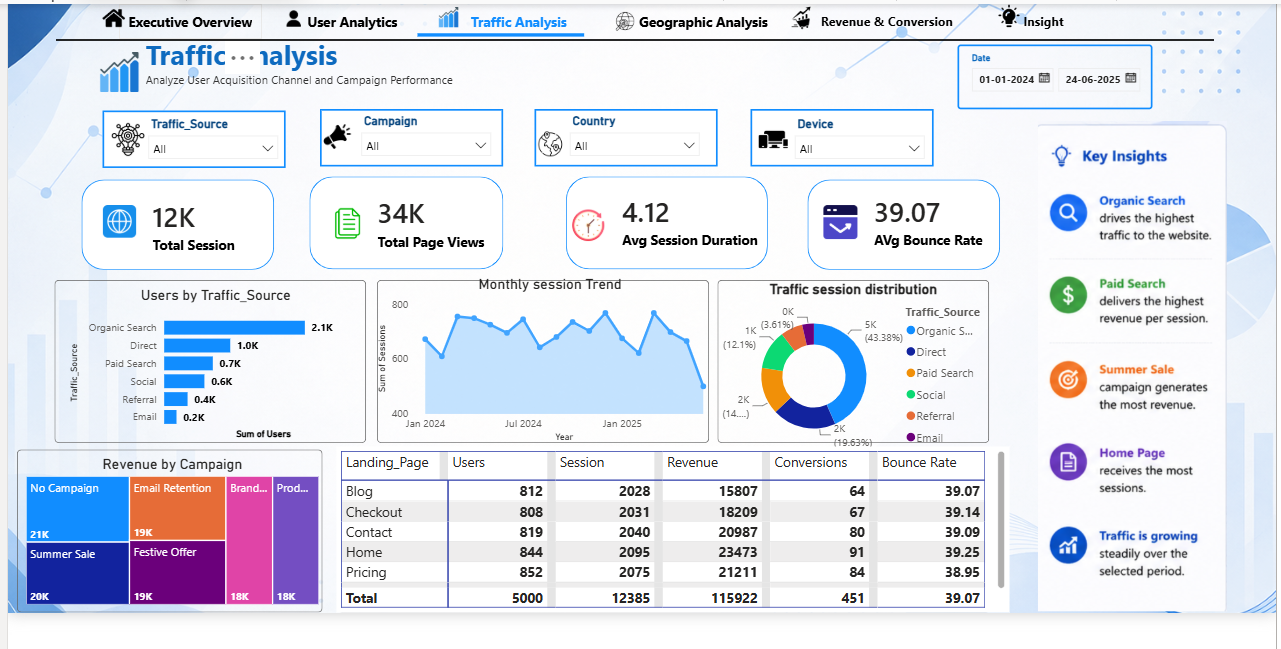

The dashboard page shown, as its layout file describes it:
{"tool":"powerbi","page":{"name":"Traffic Analysis","canvas":[1500,720],"ordinal":2},"visuals":[{"type":"shape","box":[112.5,126.4,216.7,68.1],"z":0},{"type":"shape","box":[877.8,123.6,216.7,68.1],"z":1000},{"type":"shape","box":[622.2,123.6,216.7,68.1],"z":2000},{"type":"shape","box":[369.4,123.6,216.7,68.1],"z":3000},{"type":"textbox","box":[158.3,31.9,395.8,72.2],"z":4000},{"type":"image","box":[104.2,56.9,54.2,47.2],"z":5000},{"type":"actionButton","box":[131.3,0,168.5,40.5],"z":6000},{"type":"actionButton","box":[337.5,0,140.3,40.3],"z":7000},{"type":"actionButton","box":[533.3,0,140.3,40.3],"z":8000},{"type":"actionButton","box":[956.2,0,166.9,40.5],"z":9000},{"type":"actionButton","box":[740.6,0,165.3,40.5],"z":10000},{"type":"actionButton","box":[1161.1,0,129.2,40.3],"z":11000},{"type":"shape","box":[56.8,37.3,1369.9,10.6],"z":12000},{"type":"shape","box":[484.3,30,197.1,12.9],"z":13000},{"type":"image","box":[112.5,0,26.4,33.3],"z":14000},{"type":"image","box":[329,3.2,19.4,27.6],"z":15000},{"type":"image","box":[508.9,3.2,24.3,24.3],"z":16000},{"type":"image","box":[706.9,8.3,47.2,23.6],"z":17000},{"type":"image","box":[914.1,1.6,48.6,29.2],"z":18000},{"type":"image","box":[1161.1,0,47.2,27.8],"z":19000},{"type":"slicer","fields":{"Values":["Digital_Marketing_Data.Date"]},"box":[1123.6,47.2,230.6,76.4],"z":20000},{"type":"slicer","fields":{"Values":["Digital_Marketing_Data.Device"]},"box":[920.8,127.8,173.6,76.4],"z":21000},{"type":"slicer","fields":{"Values":["Digital_Marketing_Data.Traffic_Source"]},"box":[155.6,127.8,173.6,66.7],"z":22000},{"type":"slicer","fields":{"Values":["Digital_Marketing_Data.Campaign"]},"box":[408.3,123.6,173.6,76.4],"z":23000},{"type":"slicer","fields":{"Values":["Digital_Marketing_Data.Country"]},"box":[654.2,123.6,173.6,76.4],"z":24000},{"type":"image","box":[104.2,140.3,75,40.3],"z":25000},{"type":"image","box":[370.8,140.3,37.5,33.3],"z":26000},{"type":"image","box":[622.2,151.4,37.5,29.2],"z":27000},{"type":"image","box":[880.6,140.3,51.4,40.3],"z":28000},{"type":"shape","box":[87.5,206.9,227.8,106.9],"z":29000},{"type":"shape","box":[945.8,206.9,227.8,106.9],"z":30000},{"type":"shape","box":[659.7,204.2,238.9,109.7],"z":31000},{"type":"shape","box":[356.9,204.2,229.2,109.7],"z":32000},{"type":"cardVisual","fields":{"Data":["Digital_Marketing_Data.total session"]},"box":[141.7,209.7,158.3,104.2],"z":33000},{"type":"cardVisual","fields":{"Data":["Digital_Marketing_Data.Avg Session Duration"]},"box":[697.2,204.2,223.6,104.2],"z":34000},{"type":"cardVisual","fields":{"Data":["Sum(Digital_Marketing_Data.Page_Views)"]},"box":[408.3,206.9,190.3,101.4],"z":35000},{"type":"cardVisual","fields":{"Data":["Digital_Marketing_Data.AVg Bounce Rate"]},"box":[995.7,204.3,212.9,104.3],"z":36000},{"type":"image","box":[108.3,237.5,47.2,38.9],"z":37000},{"type":"image","box":[369.4,238.9,65.3,40.3],"z":38000},{"type":"image","box":[659.7,243.1,52.8,37.5],"z":39000},{"type":"image","box":[962.5,231.9,45.8,51.4],"z":40000},{"type":"image","box":[1208.4,138.4,243.1,580.2],"z":41000},{"type":"shape","box":[55.7,325.7,368.6,192.9],"z":42000},{"type":"shape","box":[10,527.1,361.4,192.9],"z":43000},{"type":"shape","box":[435.7,325.7,392.9,192.9],"z":44000},{"type":"shape","box":[840,325.7,321.4,192.9],"z":45000},{"type":"clusteredBarChart","title":"Users by Traffic_Source","fields":{"Category":["Digital_Marketing_Data.Traffic_Source"],"Y":["Sum(Digital_Marketing_Data.Users)"]},"box":[67.1,332.9,357.1,185.7],"z":46000},{"type":"lineChart","title":"Monthly session Trend","fields":{"Y":["Sum(Digital_Marketing_Data.Sessions)"],"Category":["Digital_Marketing_Data.Date.Variation.Date Hierarchy.Year","Digital_Marketing_Data.Date.Variation.Date Hierarchy.Month"]},"box":[431.4,321.4,420,201.4],"z":47000},{"type":"donutChart","title":"Traffic session distribution","fields":{"Y":["Sum(Digital_Marketing_Data.Sessions)"],"Category":["Digital_Marketing_Data.Traffic_Source"]},"box":[840,325.7,321.4,207.1],"z":48000},{"type":"treemap","fields":{"Group":["Digital_Marketing_Data.Campaign"],"Values":["Sum(Digital_Marketing_Data.Revenue_USD)"]},"box":[16,534.1,356.7,181],"z":49000},{"type":"shape","box":[390,527.1,771.4,192.9],"z":50000},{"type":"pivotTable","fields":{"Rows":["Digital_Marketing_Data.Landing_Page"],"Values":["Sum(Digital_Marketing_Data.Users)","Sum(Digital_Marketing_Data.Sessions)","Sum(Digital_Marketing_Data.Revenue_USD)","Sum(Digital_Marketing_Data.Conversions)","Digital_Marketing_Data.AVg Bounce Rate"]},"box":[388.6,522.9,795.7,195.7],"z":51000}]}

Visuals, with their boxes on the page's 1500x720 design canvas (x1, y1, x2, y2). These are canvas units, not pixel positions in the 1281x649 screenshot, which may show the page scaled, cropped or inside an application window:
shape: BBox(112, 126, 329, 194)
shape: BBox(878, 124, 1094, 192)
shape: BBox(622, 124, 839, 192)
shape: BBox(369, 124, 586, 192)
textbox: BBox(158, 32, 554, 104)
image: BBox(104, 57, 158, 104)
actionButton: BBox(131, 0, 300, 40)
actionButton: BBox(338, 0, 478, 40)
actionButton: BBox(533, 0, 674, 40)
actionButton: BBox(956, 0, 1123, 40)
actionButton: BBox(741, 0, 906, 40)
actionButton: BBox(1161, 0, 1290, 40)
shape: BBox(57, 37, 1427, 48)
shape: BBox(484, 30, 681, 43)
image: BBox(112, 0, 139, 33)
image: BBox(329, 3, 348, 31)
image: BBox(509, 3, 533, 28)
image: BBox(707, 8, 754, 32)
image: BBox(914, 2, 963, 31)
image: BBox(1161, 0, 1208, 28)
slicer - Digital_Marketing_Data.Date: BBox(1124, 47, 1354, 124)
slicer - Digital_Marketing_Data.Device: BBox(921, 128, 1094, 204)
slicer - Digital_Marketing_Data.Traffic_Source: BBox(156, 128, 329, 194)
slicer - Digital_Marketing_Data.Campaign: BBox(408, 124, 582, 200)
slicer - Digital_Marketing_Data.Country: BBox(654, 124, 828, 200)
image: BBox(104, 140, 179, 181)
image: BBox(371, 140, 408, 174)
image: BBox(622, 151, 660, 181)
image: BBox(881, 140, 932, 181)
shape: BBox(88, 207, 315, 314)
shape: BBox(946, 207, 1174, 314)
shape: BBox(660, 204, 899, 314)
shape: BBox(357, 204, 586, 314)
cardVisual - Digital_Marketing_Data.total session: BBox(142, 210, 300, 314)
cardVisual - Digital_Marketing_Data.Avg Session Duration: BBox(697, 204, 921, 308)
cardVisual - Sum(Digital_Marketing_Data.Page_Views): BBox(408, 207, 599, 308)
cardVisual - Digital_Marketing_Data.AVg Bounce Rate: BBox(996, 204, 1209, 309)
image: BBox(108, 238, 156, 276)
image: BBox(369, 239, 435, 279)
image: BBox(660, 243, 712, 281)
image: BBox(962, 232, 1008, 283)
image: BBox(1208, 138, 1452, 719)
shape: BBox(56, 326, 424, 519)
shape: BBox(10, 527, 371, 720)
shape: BBox(436, 326, 829, 519)
shape: BBox(840, 326, 1161, 519)
"Users by Traffic_Source" clusteredBarChart: BBox(67, 333, 424, 519)
"Monthly session Trend" lineChart: BBox(431, 321, 851, 523)
"Traffic session distribution" donutChart: BBox(840, 326, 1161, 533)
treemap - Digital_Marketing_Data.Campaign x Sum(Digital_Marketing_Data.Revenue_USD): BBox(16, 534, 373, 715)
shape: BBox(390, 527, 1161, 720)
pivotTable - Digital_Marketing_Data.Landing_Page x Sum(Digital_Marketing_Data.Users): BBox(389, 523, 1184, 719)
